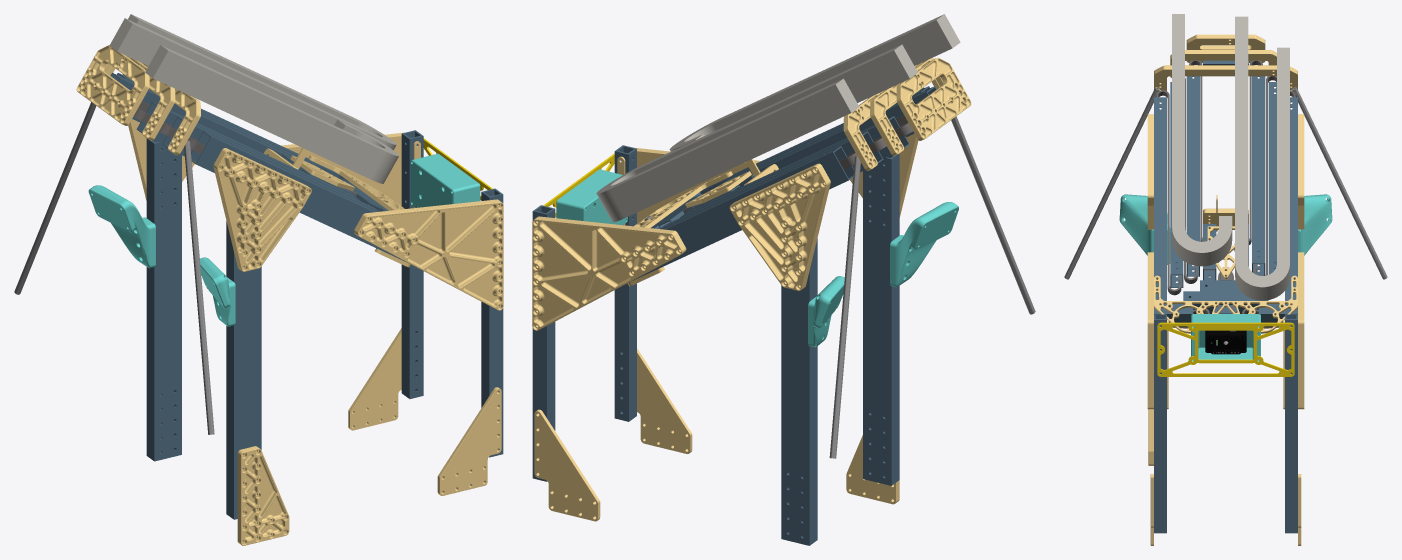
File: Elevator PS.glb
The picture shows the model from 3 angles, left to right: view 1: azimuth 30°, elevation 25°; view 2: azimuth 150°, elevation 25°; view 3: azimuth 270°, elevation 25°; orthographic projection. The views are drawn at different scales.
Visible parts, largest first — view 1: Part 29, Part 23, Part 3, Part 21, Part 24, Part 2, Part 30, Part 49, Part 48, Part 14, 18.5 in. Rounded Hex Shaft (×2), Part 5 (+14 smaller); view 2: Part 2, Part 21, Part 31, Part 29, Part 32, Part 3, Part 50, Part 15, 18.5 in. Rounded Hex Shaft (×2), Part 22, Part 5, Part 48 (+14 smaller); view 3: Part 2, Part 3, Part 43, Part 20, Part 17, Part 30, Part 22, Part 14, 18.5 in. Rounded Hex Shaft (×2), Part 18, Part 27, Part 16 (+18 smaller).
Boxes of the visible parts, x1,y1,x2,y2 form: Part 29: [146, 138, 181, 461]; Part 23: [354, 199, 503, 310]; Part 3: [145, 45, 398, 183]; Part 21: [226, 221, 261, 519]; Part 24: [213, 148, 311, 271]; Part 2: [109, 14, 396, 149]; Part 30: [401, 130, 423, 398]; Part 49: [237, 446, 289, 545]; Part 48: [437, 387, 501, 495]; Part 14: [191, 131, 404, 261]; 18.5 in. Rounded Hex Shaft (×2): [14, 102, 214, 434]; Part 5: [76, 45, 149, 125]; Part 2: [596, 44, 917, 222]; Part 21: [863, 154, 899, 485]; Part 31: [532, 216, 686, 330]; Part 29: [781, 238, 817, 545]; Part 32: [729, 163, 830, 290]; Part 3: [669, 14, 960, 151]; Part 50: [534, 409, 600, 521]; Part 15: [634, 146, 853, 279]; 18.5 in. Rounded Hex Shaft (×2): [829, 116, 1035, 458]; Part 22: [614, 145, 636, 421]; Part 5: [896, 57, 971, 140]; Part 48: [637, 348, 692, 453]; Part 2: [1235, 16, 1289, 300]; Part 3: [1172, 14, 1232, 266]; Part 43: [1157, 322, 1294, 376]; Part 20: [1156, 60, 1295, 317]; Part 17: [1252, 76, 1265, 275]; Part 30: [1285, 314, 1297, 533]; Part 22: [1154, 314, 1166, 533]; Part 14: [1154, 97, 1166, 300]; 18.5 in. Rounded Hex Shaft (×2): [1064, 87, 1387, 279]; Part 18: [1186, 76, 1199, 276]; Part 27: [1154, 275, 1297, 333]; Part 16: [1268, 82, 1276, 274].
Bounding box in the file's own units: 0.6658 × 0.879 × 0.6278.
